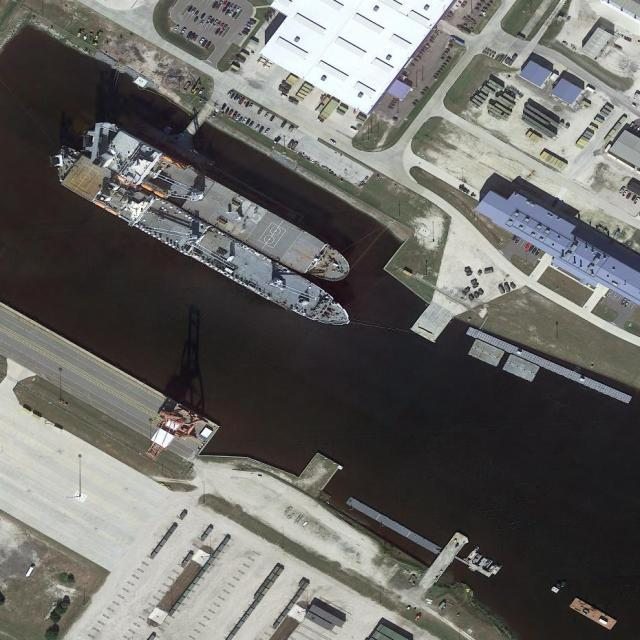Cargo: (36, 138, 359, 344), (74, 111, 358, 296)
